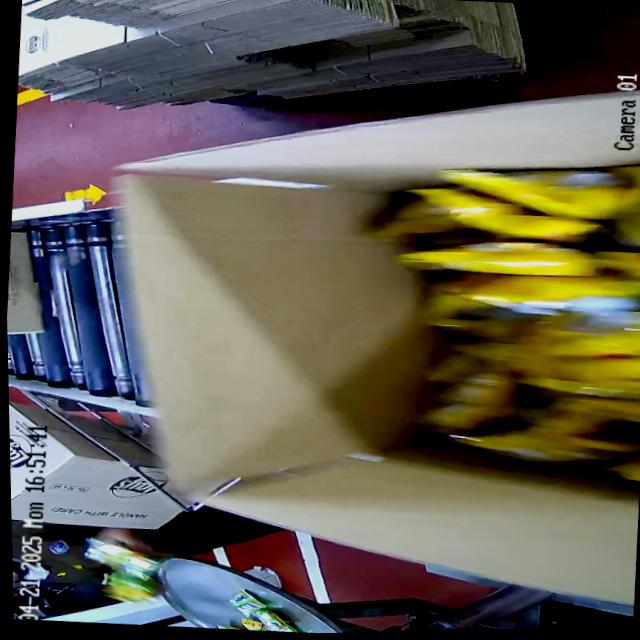SALTED: (381, 124, 640, 495)
